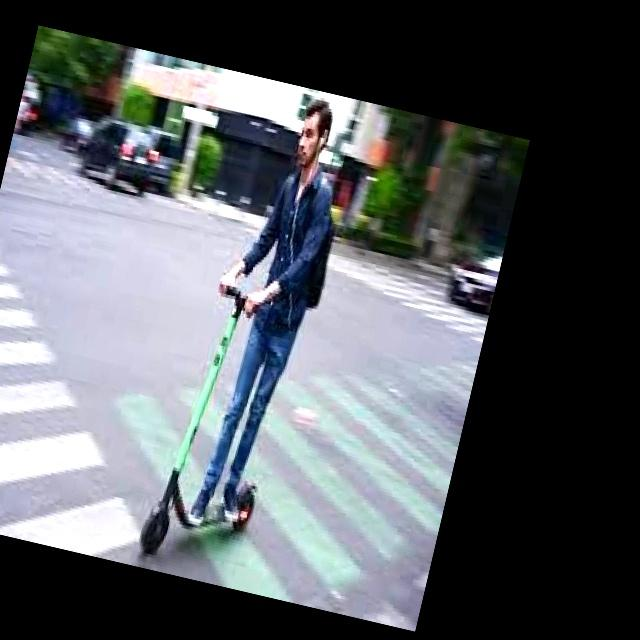bare_head: (277, 92, 343, 169)
human: (182, 84, 346, 515)
kickboard: (129, 469, 304, 553)
